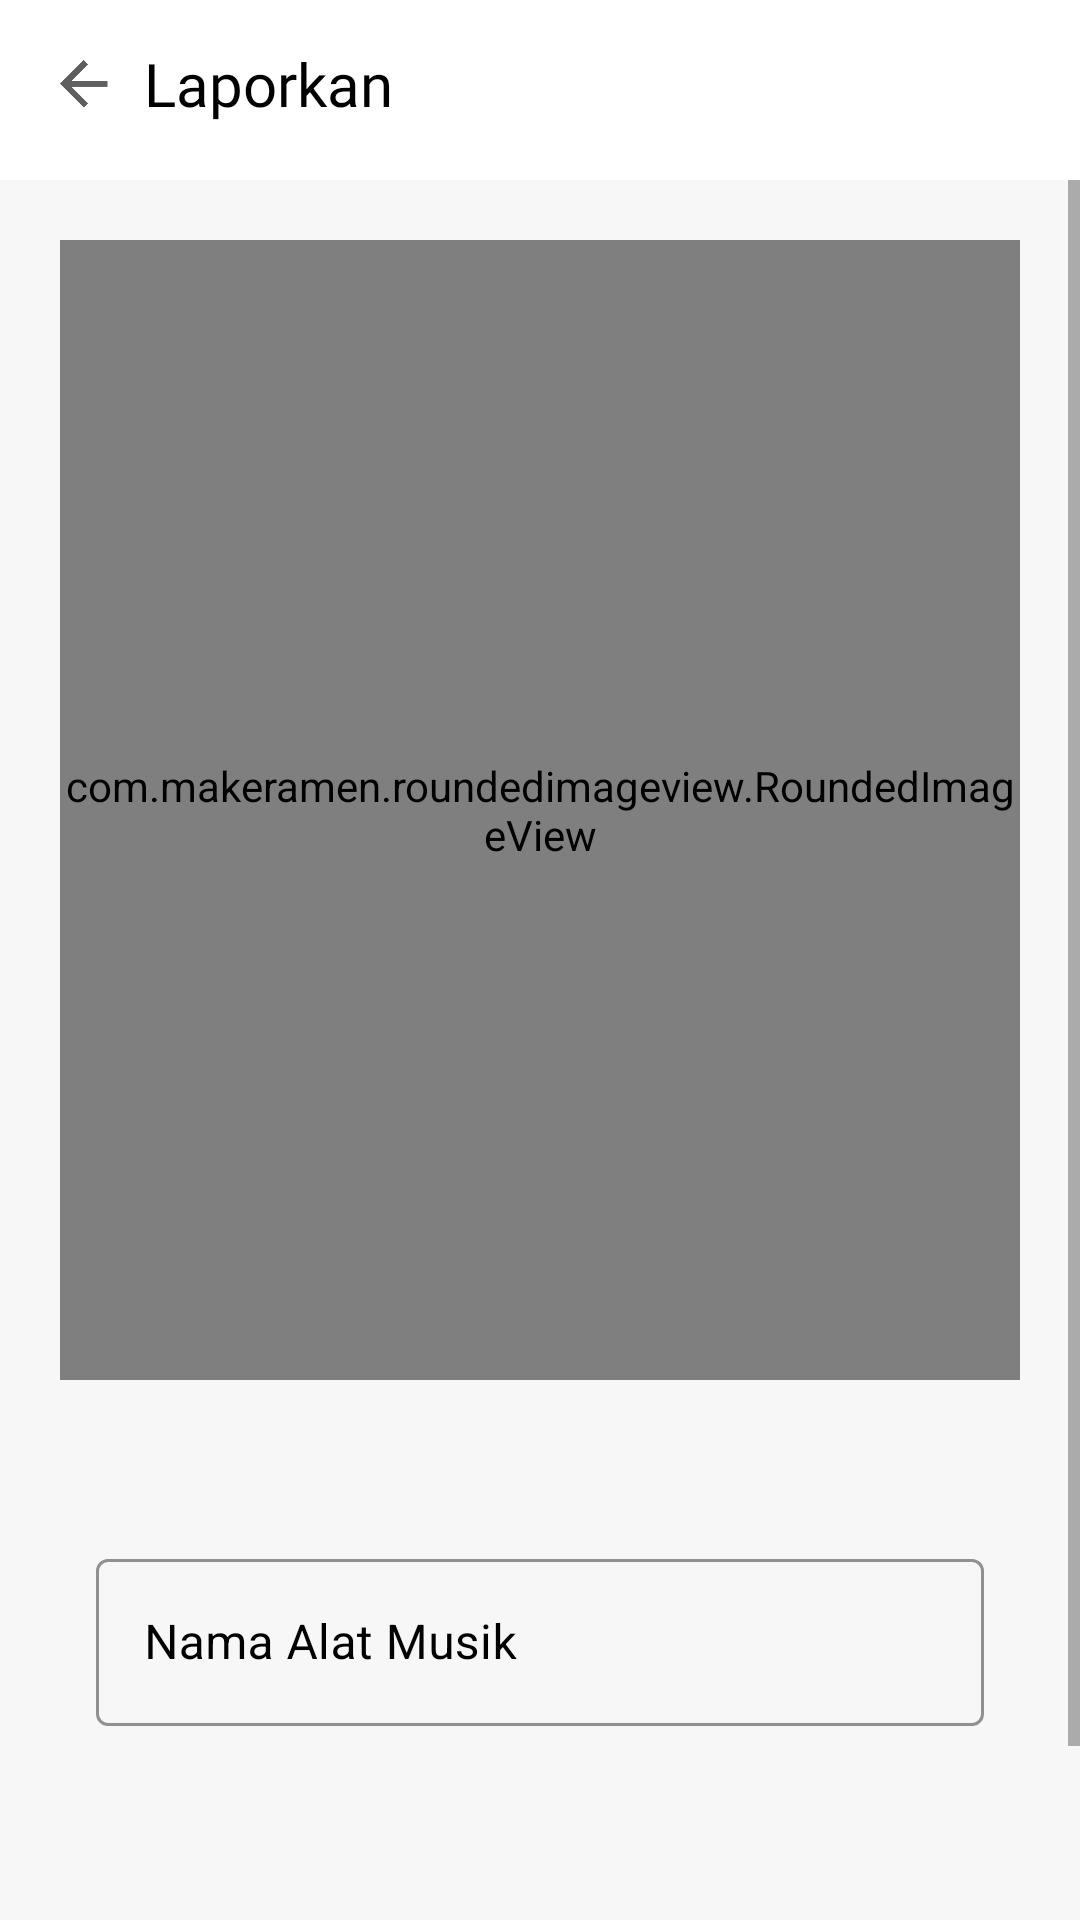

Icon click points for this 1080×1920 phone screenshot, format [x,y]:
back: [84,83]
